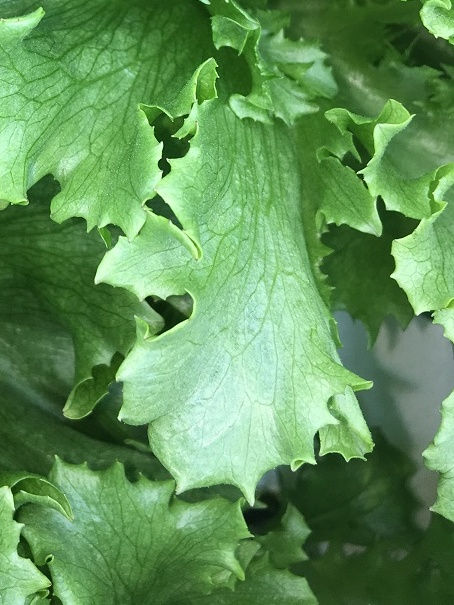tipburn: (188, 246, 208, 267), (65, 510, 81, 527), (190, 115, 205, 131)
